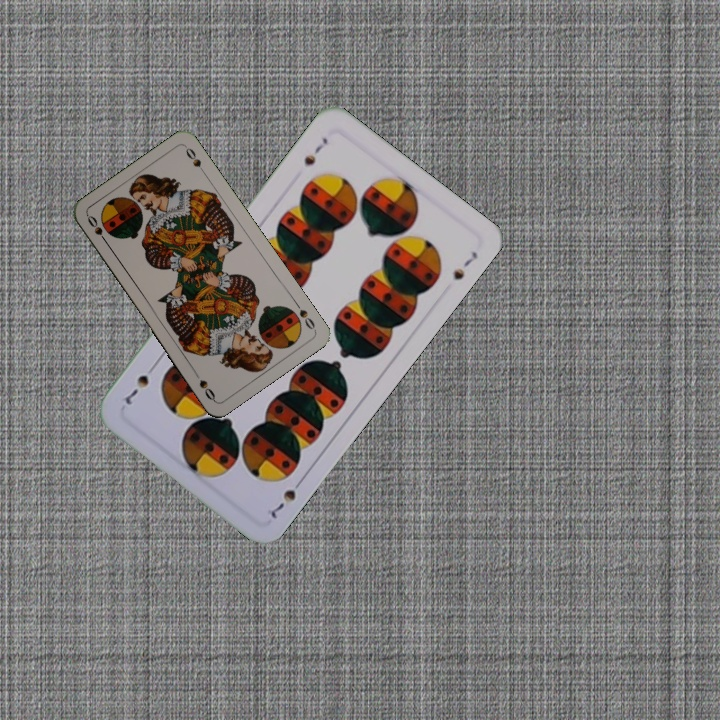S7: (266, 473, 307, 522), (299, 133, 331, 168)
SO: (83, 211, 111, 248), (290, 297, 318, 333)
